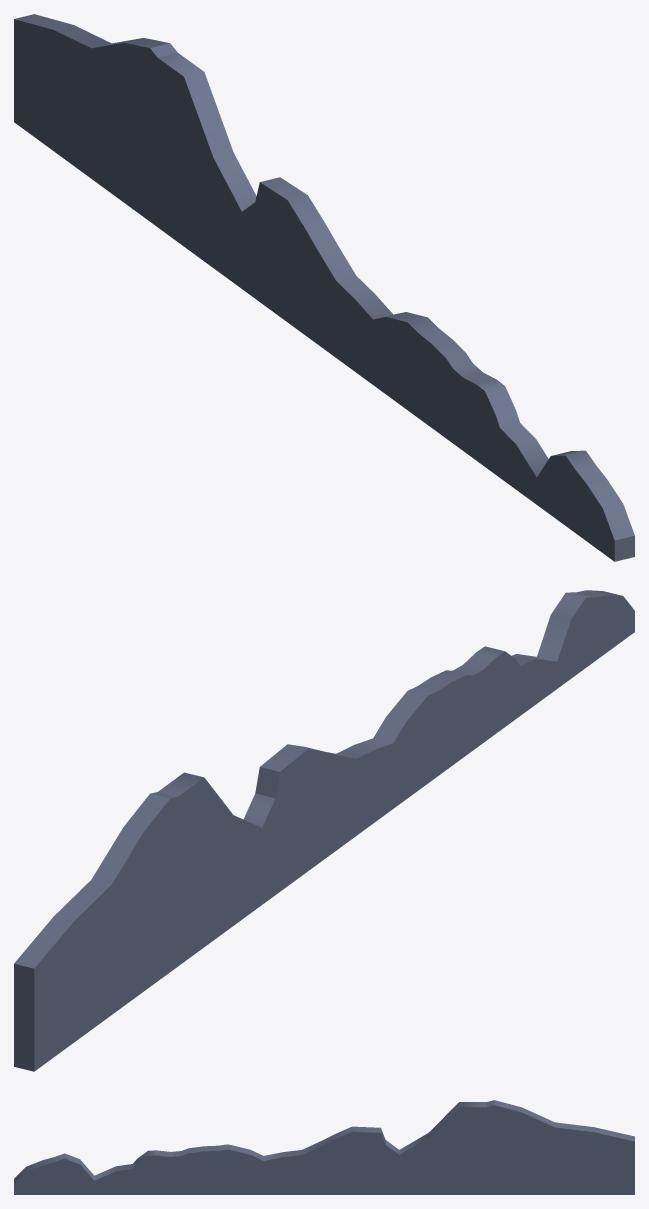
File: Mountains 1.fbx
3 renders of one model, top to bottom at view 1: azimuth 30°, elevation 25°; view 2: azimuth 150°, elevation 25°; view 3: azimuth 270°, elevation 25°, orthographic. The views are drawn at different scales.
Parts seen in each view (by area): view 1: pCube4; view 2: pCube4; view 3: pCube4.
Boxes of the visible parts, x1,y1,x2,y2 form: pCube4: [14, 14, 634, 561]; pCube4: [14, 590, 634, 1071]; pCube4: [14, 1100, 634, 1194].
Bounding box in the file's own units: 1 × 8.17 × 51.25.
